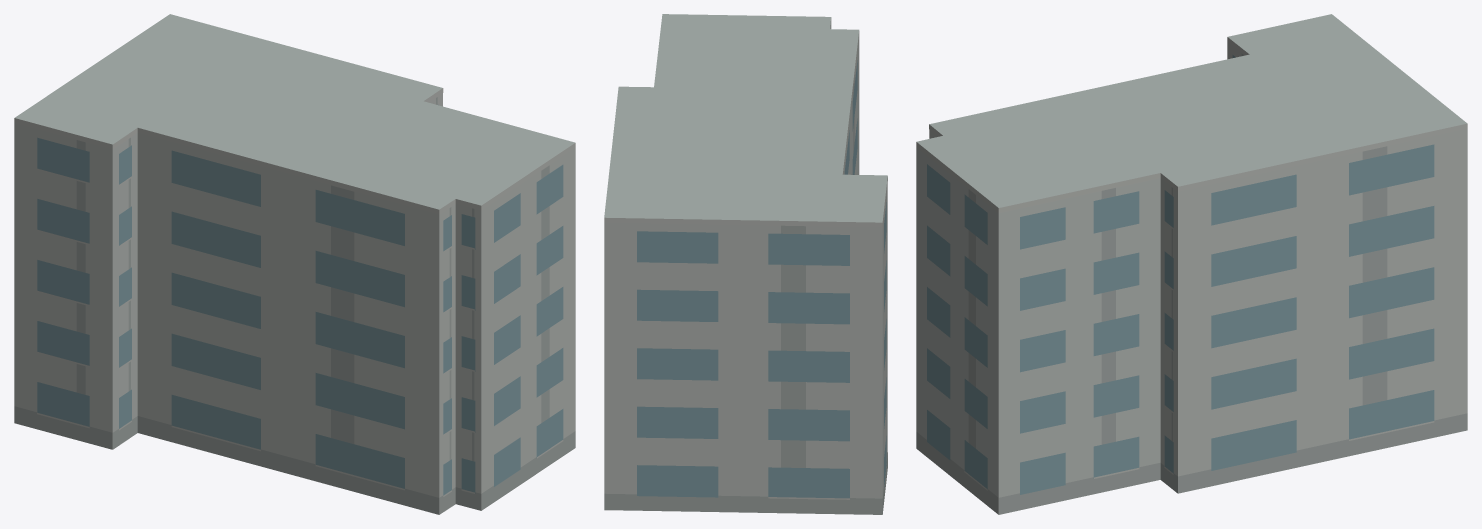
File: survey-upis-32933617.glb
3 renders of one model, left to right at view 1: azimuth 30°, elevation 25°; view 2: azimuth 150°, elevation 25°; view 3: azimuth 270°, elevation 25°, orthographic. The views are drawn at different scales.
Parts seen in each view (by area): view 1: survey-upis-32933617.tmp; view 2: survey-upis-32933617.tmp; view 3: survey-upis-32933617.tmp.
Part boxes in pixels (left/top/right/bottom): survey-upis-32933617.tmp: left=14, top=14, right=575, bottom=514; survey-upis-32933617.tmp: left=604, top=14, right=887, bottom=514; survey-upis-32933617.tmp: left=916, top=14, right=1467, bottom=514.
Size of the model in its own units: 19.68 by 14.5 by 23.62.
